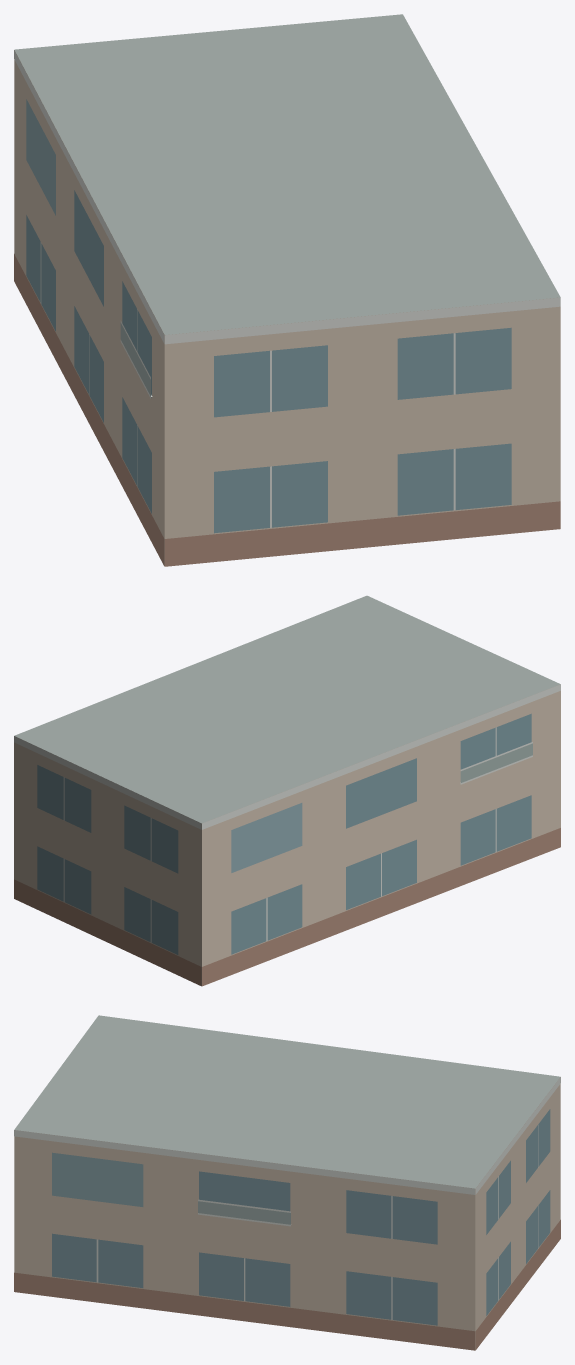
Rendered from survey-upis-32872175.glb.
3 renders of one model, top to bottom at view 1: azimuth 30°, elevation 25°; view 2: azimuth 150°, elevation 25°; view 3: azimuth 270°, elevation 25°, orthographic. The views are drawn at different scales.
Visible parts, largest first — view 1: survey-upis-32872175.tmp; view 2: survey-upis-32872175.tmp; view 3: survey-upis-32872175.tmp.
Part boxes in pixels (x1,y1,x2,y2): survey-upis-32872175.tmp: [14, 14, 560, 566]; survey-upis-32872175.tmp: [14, 595, 560, 986]; survey-upis-32872175.tmp: [14, 1015, 560, 1350].
Bounding box in the file's own units: 14 × 6.1 × 18.66.
